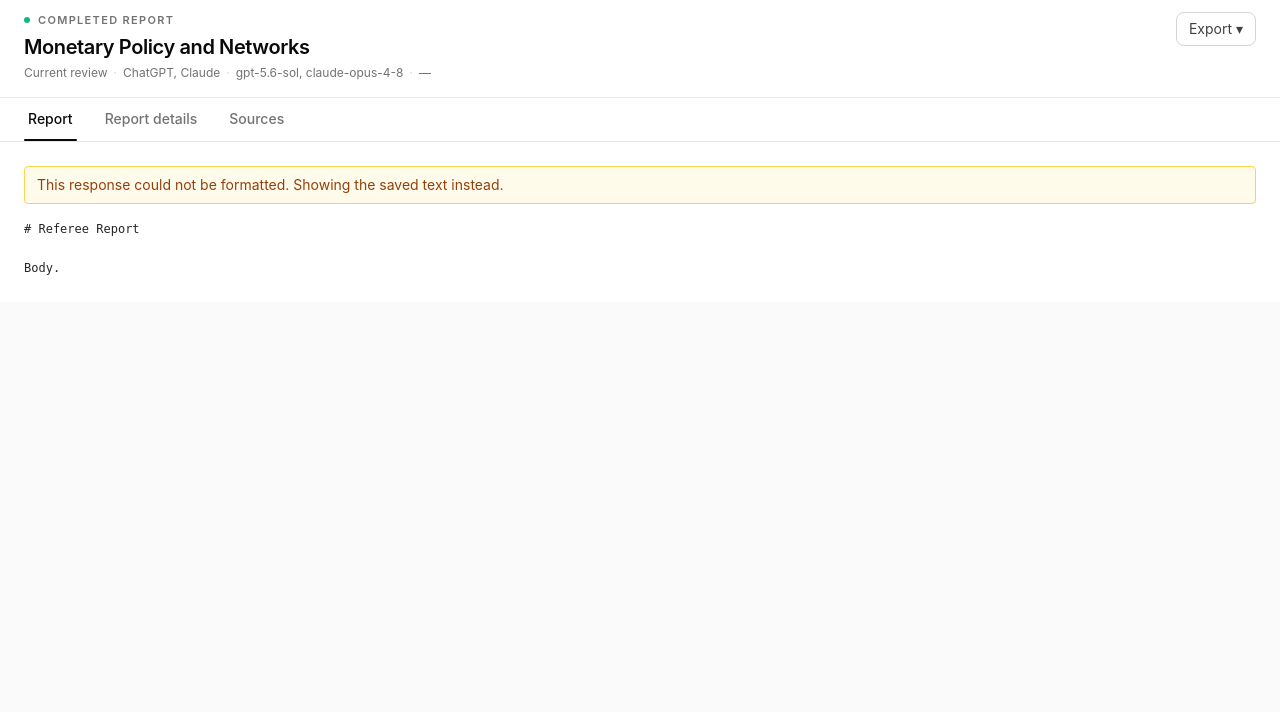
Test: ReportWorkspace › shows a separate token row for each model used by a step
The image size is (1280, 712).
Click the tab "Report details": (151, 119) x1=101 y1=97 x2=201 y2=141
(page scrolled)
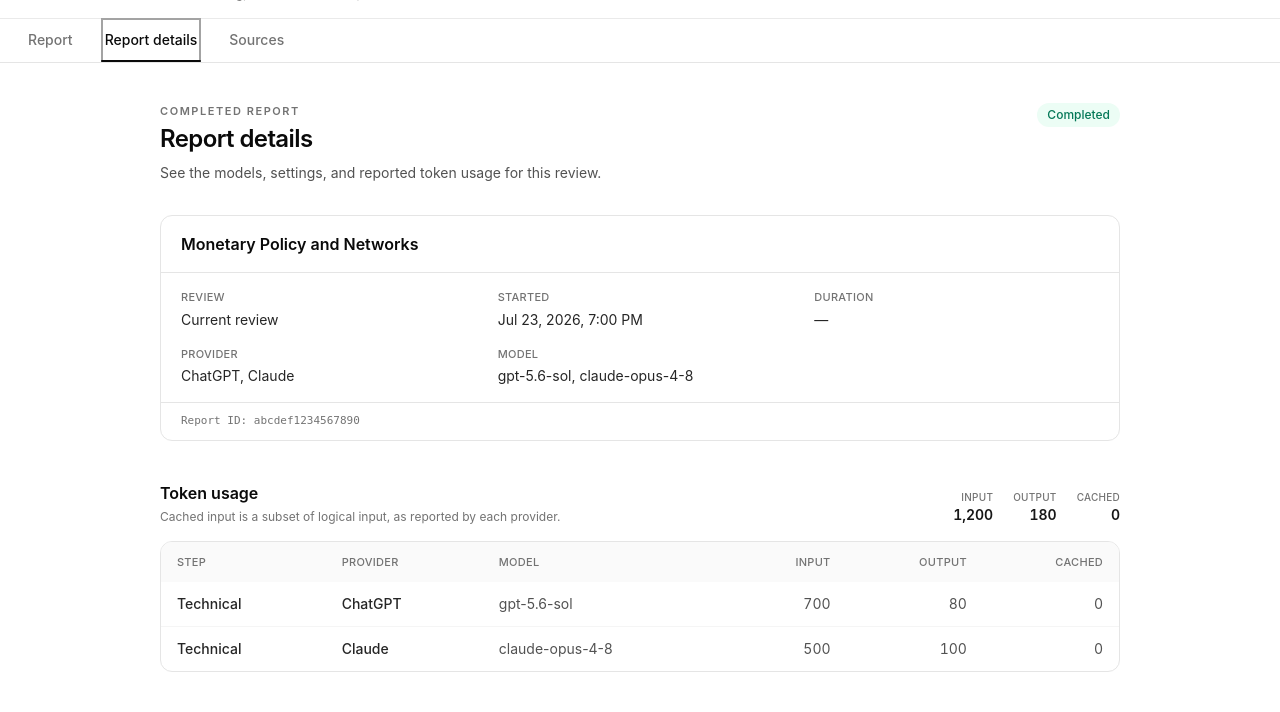
Result: the number of cells "Technical" is 2 at x1=161 y1=582 x2=326 y2=626; x1=161 y1=626 x2=326 y2=670
Result: the cell "gpt-5.6-sol" is shown at x1=483 y1=582 x2=732 y2=626
Result: the cell "claude-opus-4-8" is shown at x1=483 y1=626 x2=732 y2=670
